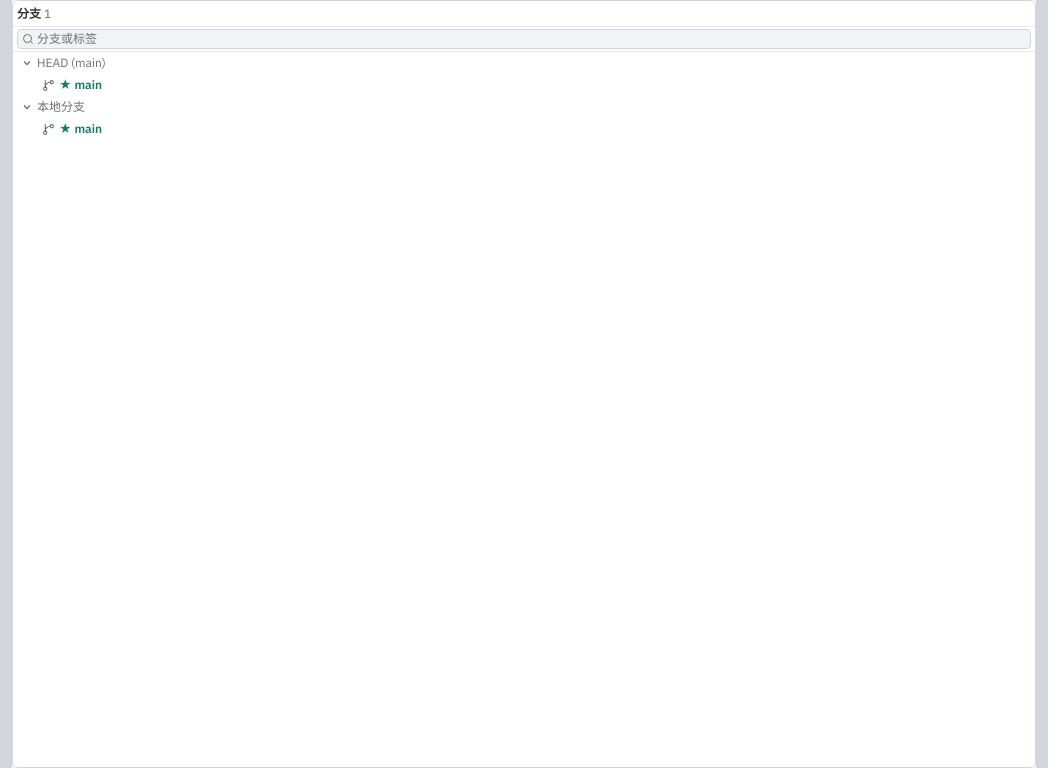
it: GitBranchTree › HEAD 组可折叠/展开
This screenshot has width=1048, height=768.
Expected: the text "HEAD (main)" is shown, [37,55,106,70]
Expected: the list item with aria-label "HEAD main" is shown, [13,74,1035,96]
// 折叠 HEAD 组
Click the list item "HEAD (main)" at point(71, 62), box [13,52,1035,74]
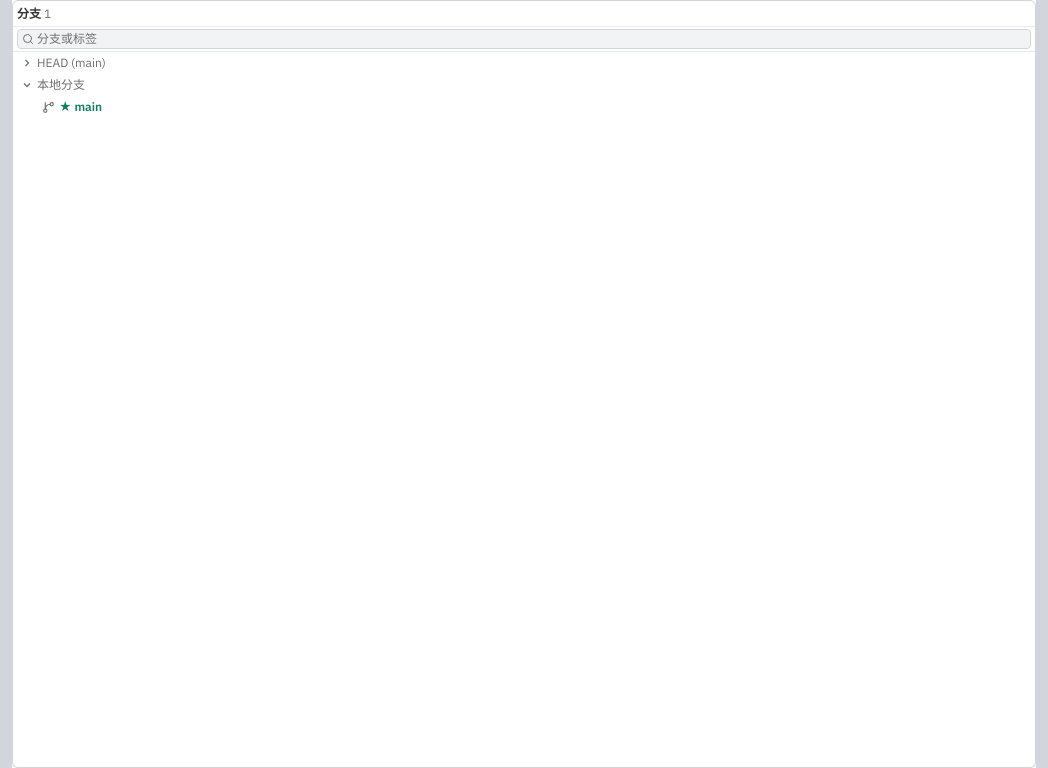
// 展开 HEAD 组
Click the list item "HEAD (main)" at point(71, 62), box [13,52,1035,74]
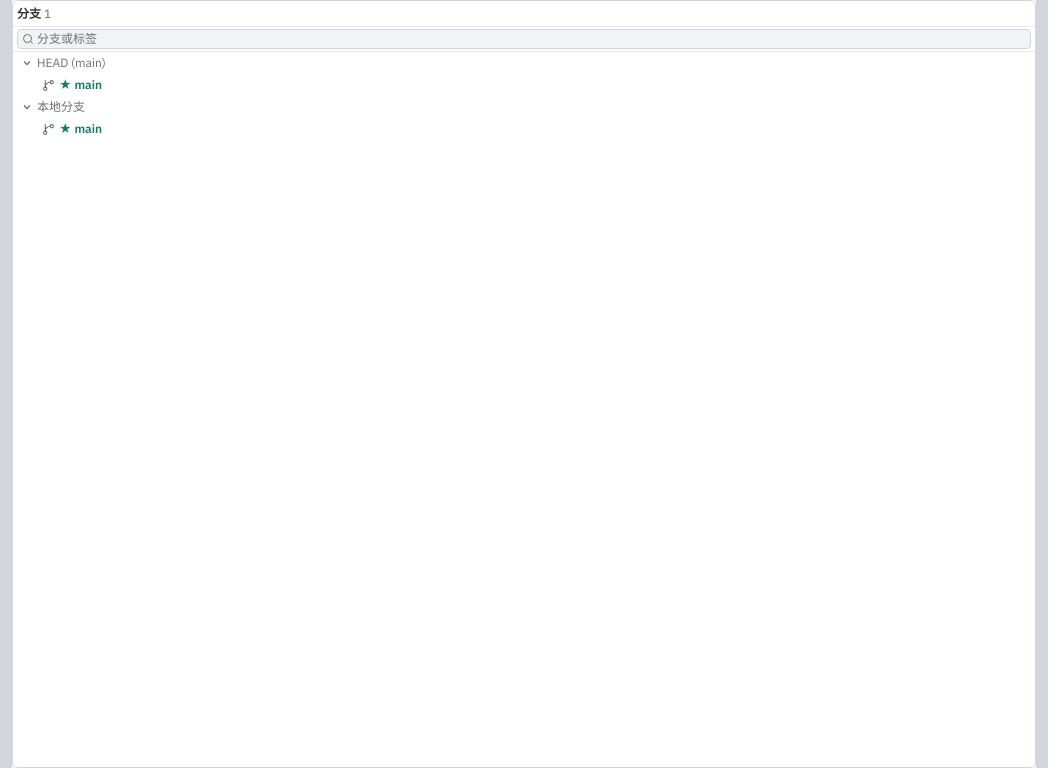
Expected: the 2nd list item "main" is shown, [13,118,1035,140]
Result: the list item with aria-label "HEAD main" is shown at [13,74,1035,96]
